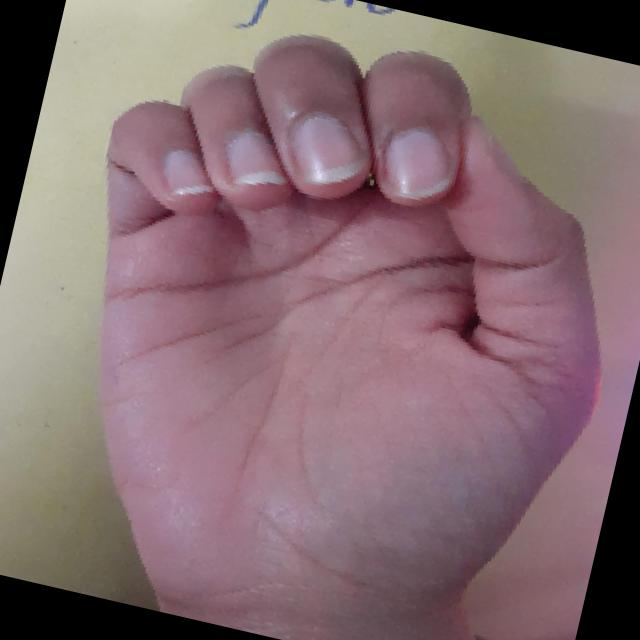Nail: (289, 111, 366, 184), (384, 127, 449, 198), (225, 129, 286, 185), (162, 149, 213, 196)
